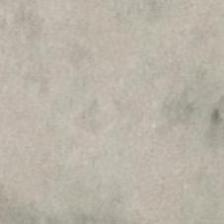Non_Crack: (9, 0, 224, 223)
